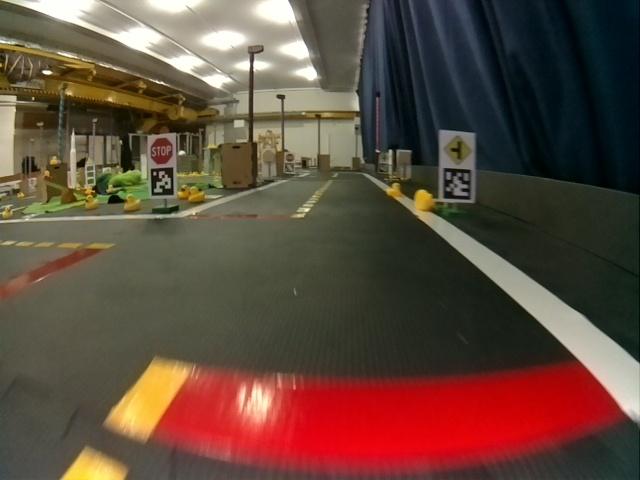Duckie: (415, 190, 433, 211), (189, 187, 205, 202), (125, 196, 139, 210), (387, 183, 400, 195), (85, 195, 96, 208), (3, 206, 13, 217), (180, 186, 188, 198), (50, 156, 59, 166)
Intersection sign: (445, 134, 472, 166)
QR code: (443, 168, 472, 200), (153, 170, 173, 194), (284, 165, 294, 173)
Stop sign: (150, 137, 173, 166), (287, 153, 294, 162)
